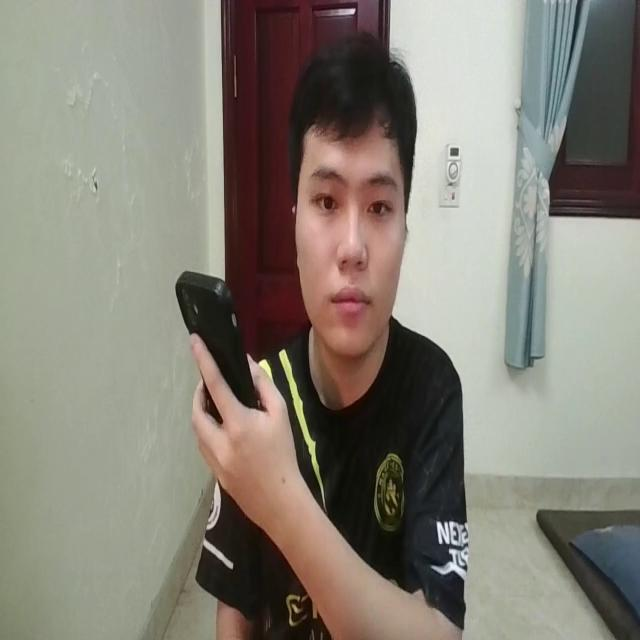phone: (175, 262, 265, 427)
student: (166, 31, 470, 640)
